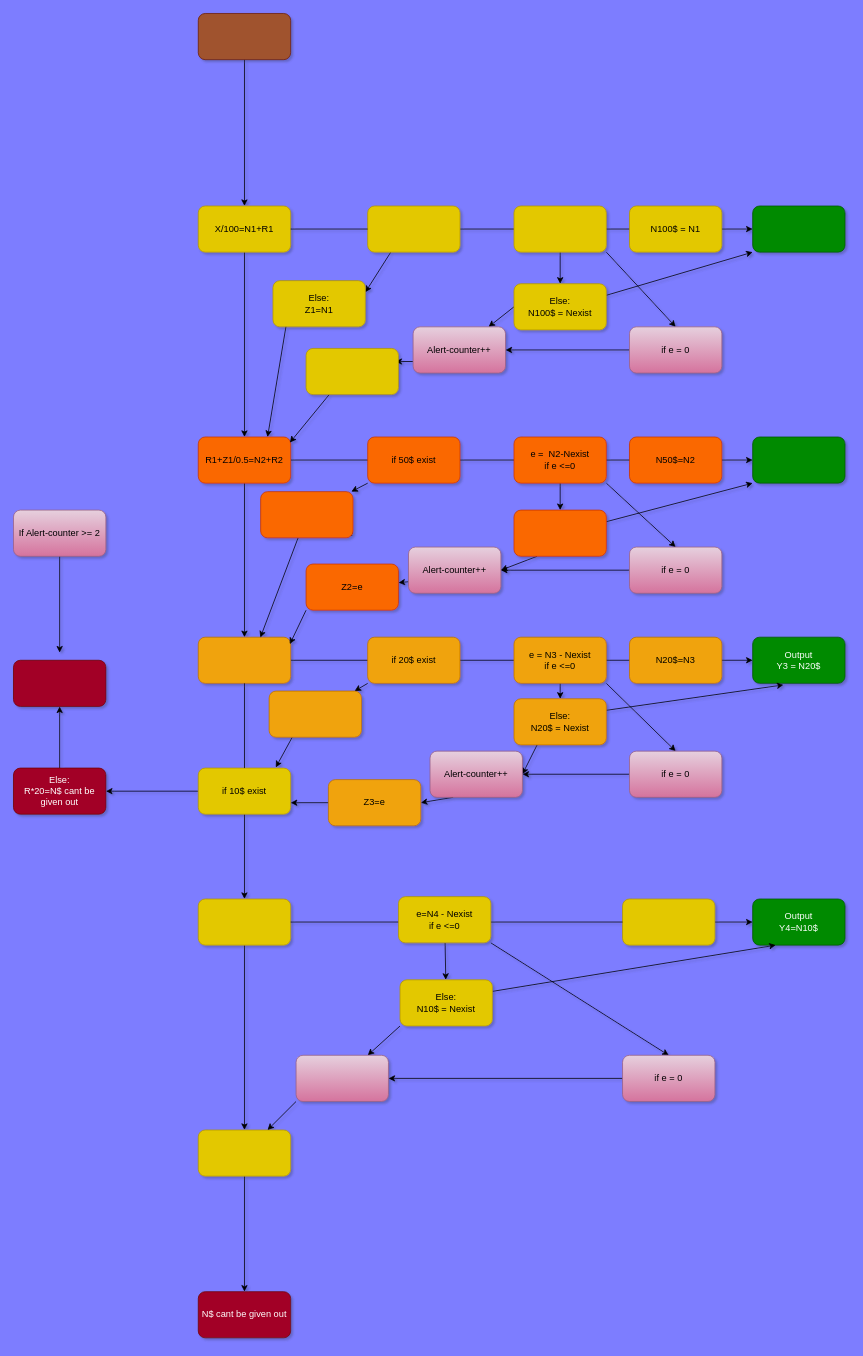
Some shapes in this 863 by 1356 pixel diagram are drawn without their labels. The shapes that lost their labels are listed below. From the top down, each one's box as (x1, y1, x2, y2) in pixels, then its label:
(198, 13, 291, 60): Input
(367, 205, 460, 252): if 100$ exist
(513, 205, 606, 252): e = N1 - Nexist if e <= 0
(752, 205, 845, 252): Output Y1=N100$
(305, 348, 398, 395): Z1=e
(752, 436, 845, 483): Output Y2=N50$
(260, 491, 353, 538): Else: Z2=N2
(513, 509, 606, 556): Else: N50$ = Nexist
(198, 636, 291, 683): R2+Z2/0.4=N3+R3
(13, 660, 106, 706): Alert the Bank
(268, 690, 362, 737): Else: Z3=N3
(198, 898, 291, 945): R3+Z3/0.5=N4+R4
(622, 898, 715, 945): N10$=N4
(295, 1055, 388, 1101): Alert-counter+=2 Z4=e
(198, 1129, 291, 1176): (R4+Z4)*10
